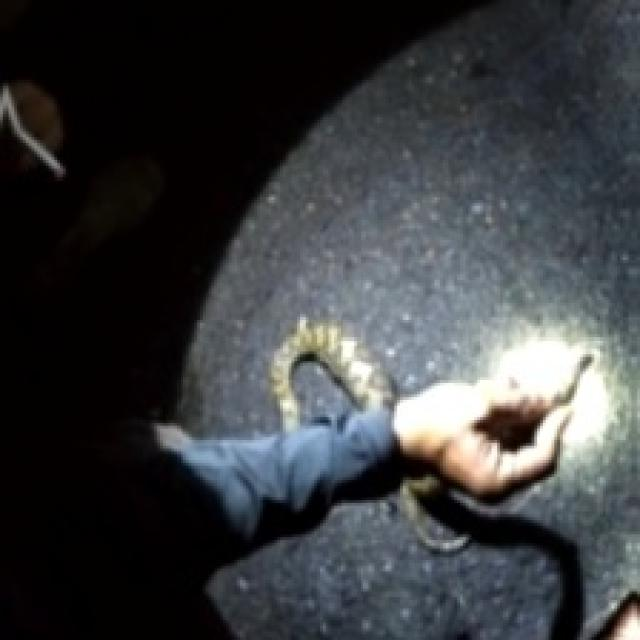reticulated python: (271, 316, 398, 431)
